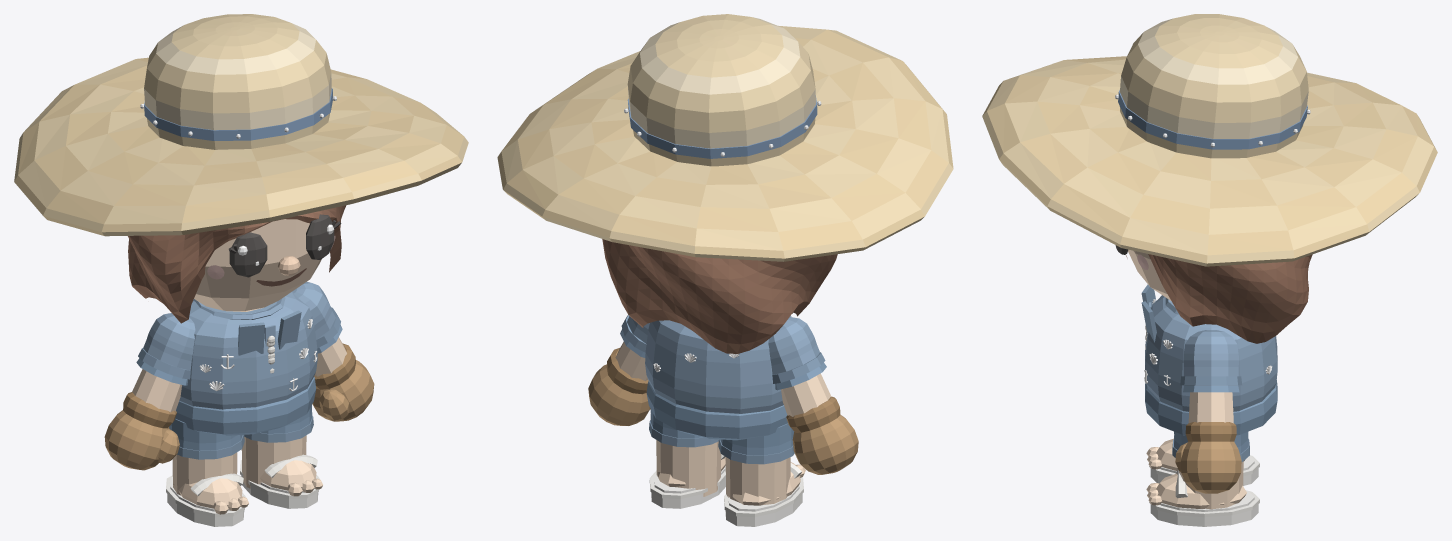
Rendered from mujer.glb.
3 views of the same model, side by side, from view 1: azimuth 30°, elevation 25°; view 2: azimuth 150°, elevation 25°; view 3: azimuth 270°, elevation 25° (orthographic).
Visible parts, largest first — view 1: ala_d6ab68, ala_e0ba79, copa_e0ba79, camisa, pelo, copa_eed3a0, cabeza, shorts, guante-1_8a592f, cyl, manga-1_4d6d95, pierna1 (+22 smaller); view 2: ala_e0ba79, ala_d6ab68, pelo, copa_e0ba79, camisa, copa_eed3a0, shorts, guante-1_8a592f, pierna1, pierna-1, guante1_8a592f, cyl (+13 smaller); view 3: ala_e0ba79, ala_d6ab68, copa_e0ba79, pelo, copa_eed3a0, camisa, guante1_8a592f, manga1_4d6d95, shorts, cyl, brazo1, suela1 (+6 smaller).
Part boxes in pixels (<box>): ala_d6ab68: <box>14,57,464,235</box>; ala_e0ba79: <box>14,59,468,236</box>; copa_e0ba79: <box>144,14,331,149</box>; camisa: <box>179,292,317,409</box>; pelo: <box>128,205,346,323</box>; copa_eed3a0: <box>144,23,331,130</box>; cabeza: <box>194,219,321,310</box>; shorts: <box>175,377,316,435</box>; guante-1_8a592f: <box>104,410,169,470</box>; cyl: <box>144,88,332,140</box>; manga-1_4d6d95: <box>143,313,195,370</box>; pierna1: <box>241,435,306,488</box>; ala_e0ba79: <box>501,25,953,261</box>; ala_d6ab68: <box>497,29,953,261</box>; pelo: <box>602,239,837,353</box>; copa_e0ba79: <box>627,14,815,166</box>; camisa: <box>645,315,791,413</box>; copa_eed3a0: <box>627,17,815,148</box>; shorts: <box>646,381,787,440</box>; guante-1_8a592f: <box>792,414,858,474</box>; pierna1: <box>656,440,721,496</box>; pierna-1: <box>725,457,790,504</box>; guante1_8a592f: <box>588,364,650,425</box>; cyl: <box>627,95,817,158</box>; ala_e0ba79: <box>982,59,1436,266</box>; ala_d6ab68: <box>982,56,1437,266</box>; copa_e0ba79: <box>1119,14,1308,158</box>; pelo: <box>1148,254,1312,343</box>; copa_eed3a0: <box>1120,18,1308,138</box>; camisa: <box>1145,295,1277,411</box>; guante1_8a592f: <box>1181,441,1241,493</box>; manga1_4d6d95: <box>1183,330,1238,385</box>; shorts: <box>1145,380,1277,435</box>; cyl: <box>1118,90,1307,149</box>; brazo1: <box>1188,392,1233,423</box>; suela1: <box>1150,497,1258,526</box>.
Bounding box in the file's own units: 96.6 × 108 × 96.23.
